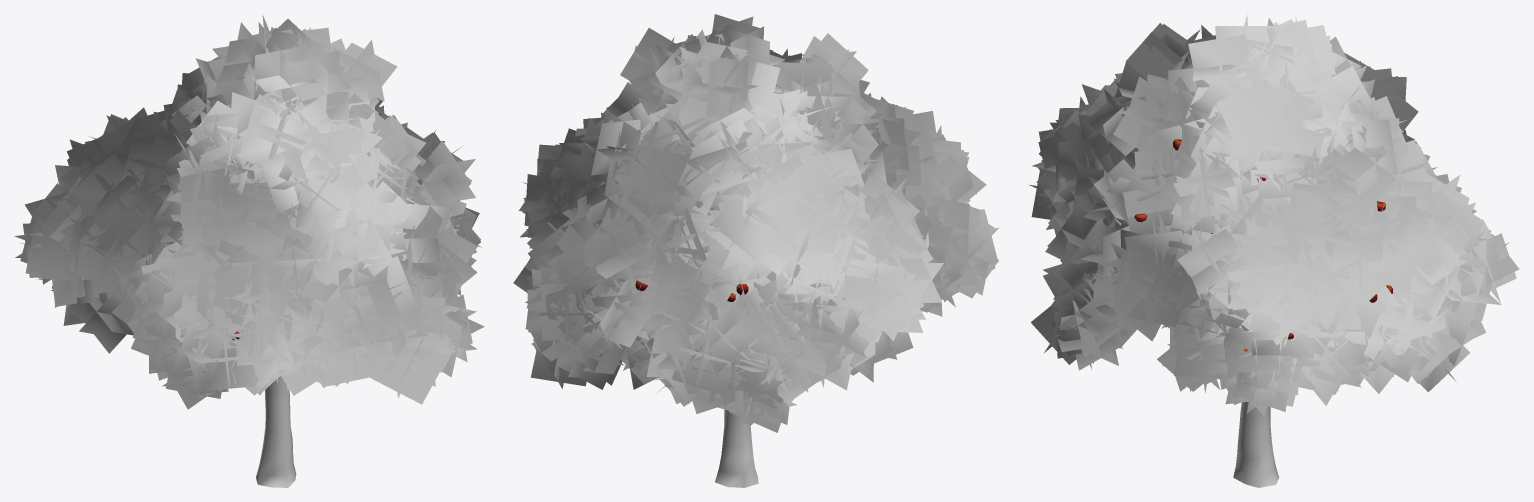
Rendered from SM_Tree_Village_Apple.fbx.
3 renders of one model, left to right at view 1: azimuth 30°, elevation 25°; view 2: azimuth 150°, elevation 25°; view 3: azimuth 270°, elevation 25°, orthographic. The views are drawn at different scales.
Visible parts, largest first — view 1: SM_Tree_Village_Apple_LOD0; view 2: SM_Tree_Village_Apple_LOD0; view 3: SM_Tree_Village_Apple_LOD0.
Boxes of the visible parts, x1=… form: SM_Tree_Village_Apple_LOD0: x1=14, y1=15, x2=484, y2=487; SM_Tree_Village_Apple_LOD0: x1=513, y1=14, x2=998, y2=487; SM_Tree_Village_Apple_LOD0: x1=1029, y1=14, x2=1519, y2=487.
Size of what is drawn, in the model's own units: 9.77 by 9.86 by 9.48.
